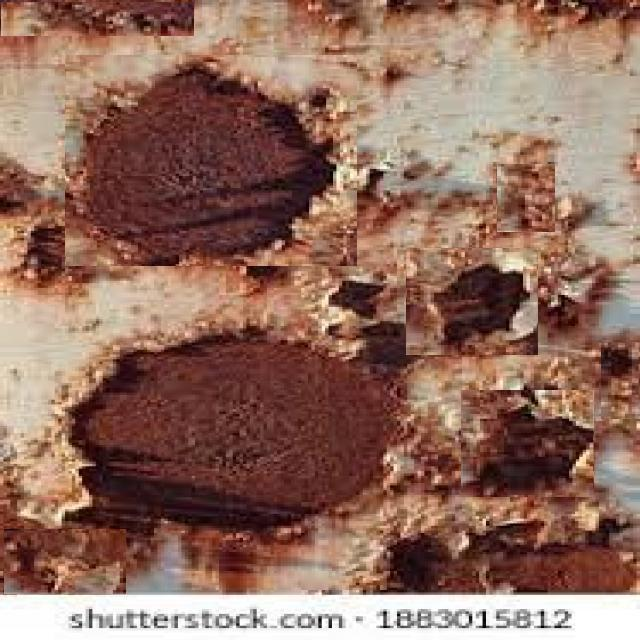Corrosion: (73, 342, 386, 530), (74, 64, 331, 265), (430, 546, 637, 594), (490, 407, 594, 492), (0, 529, 127, 594), (436, 265, 530, 344), (0, 0, 194, 35), (392, 535, 448, 594), (0, 152, 43, 214), (331, 281, 384, 318), (23, 226, 63, 274), (362, 322, 405, 366), (602, 347, 634, 376)
